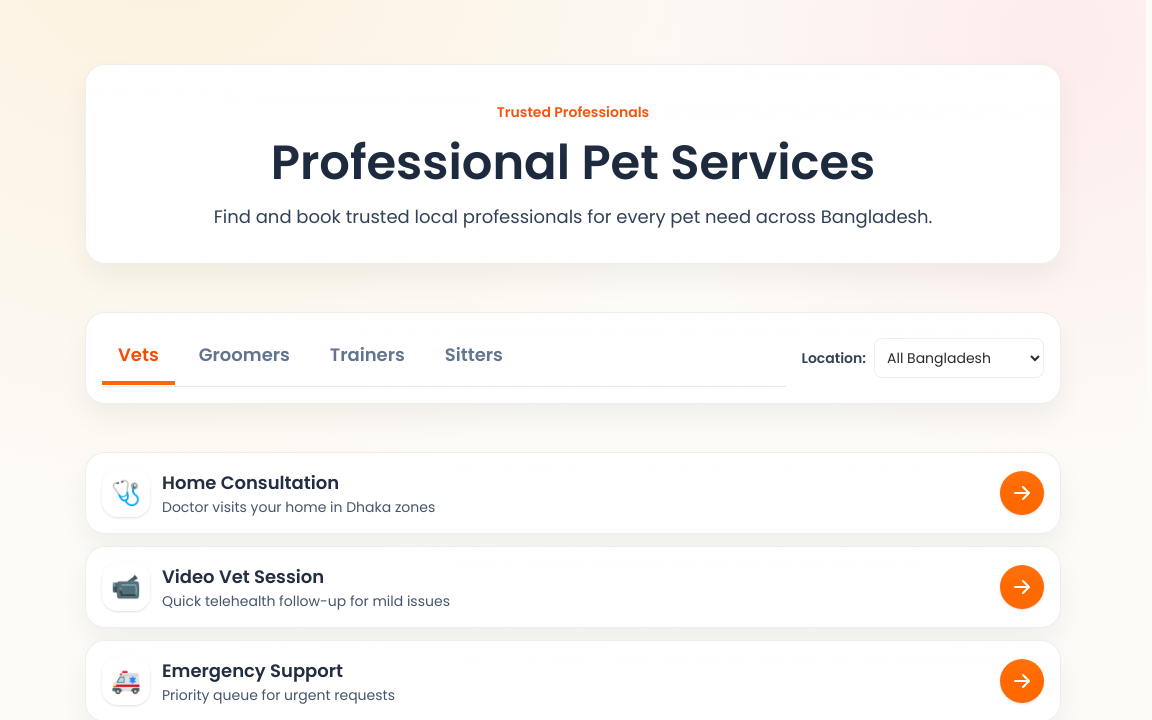
Test: ServicesPage › switches service cards when switching tabs
Note: Click Groomers tab
Click the button "Groomers" at (244, 357), box [183,329,306,385]
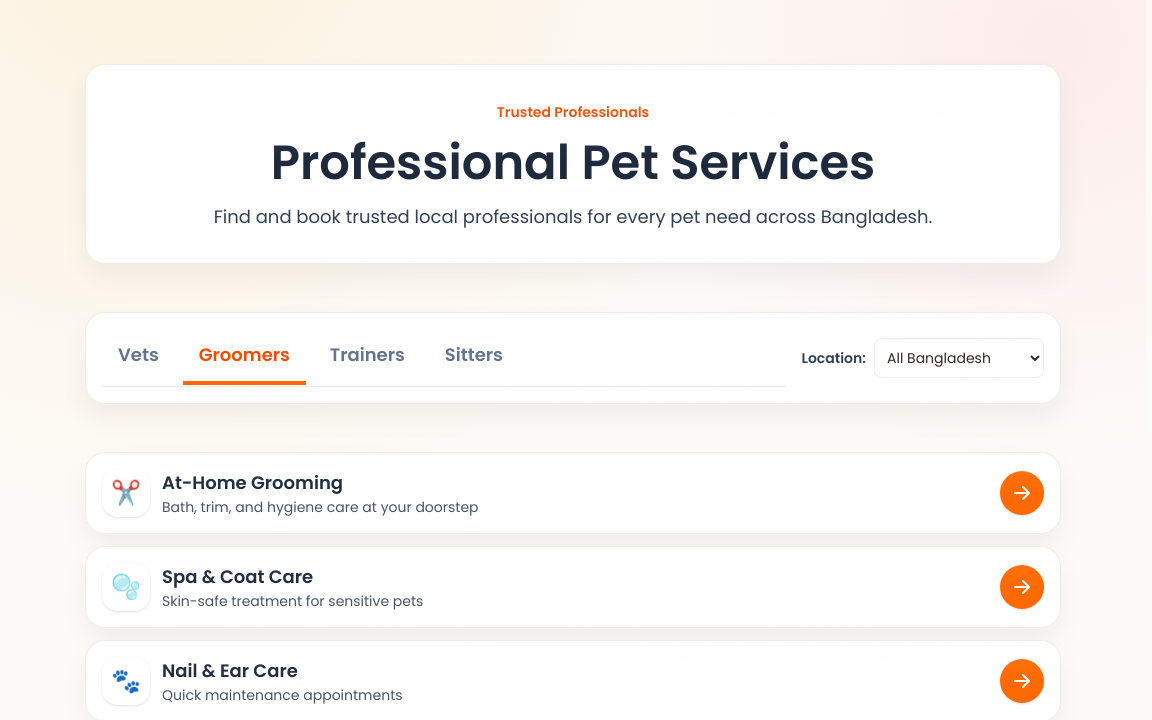
Check: the heading "At-Home Grooming" is shown, box [162,470,343,495]
Check: the heading "Spa & Coat Care" is shown, box [162,564,313,589]
Check: the heading "Nail & Ear Care" is shown, box [162,658,298,683]
Note: Click Trainers tab
Click the button "Trainers" at (367, 357), box [314,329,421,385]
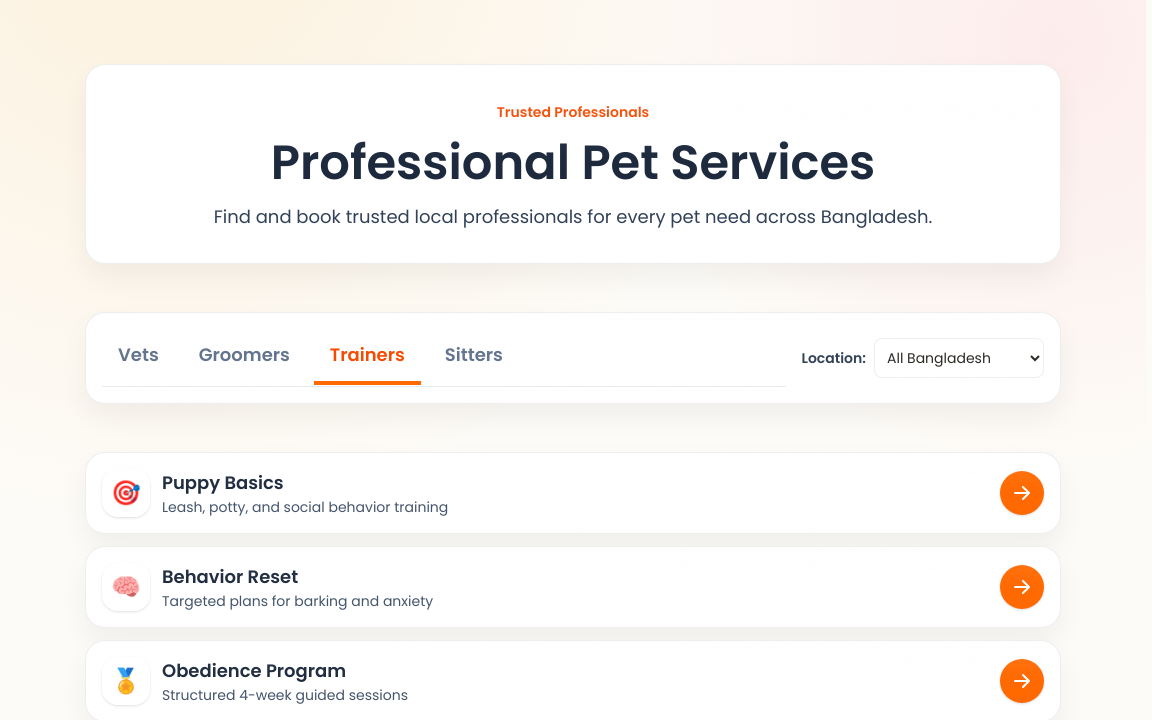
Check: the heading "Puppy Basics" is shown, box [162,470,284,495]
Check: the heading "Behavior Reset" is shown, box [162,564,298,589]
Note: Click Sitters tab
Click the button "Sitters" at (474, 357), box [429,329,519,385]
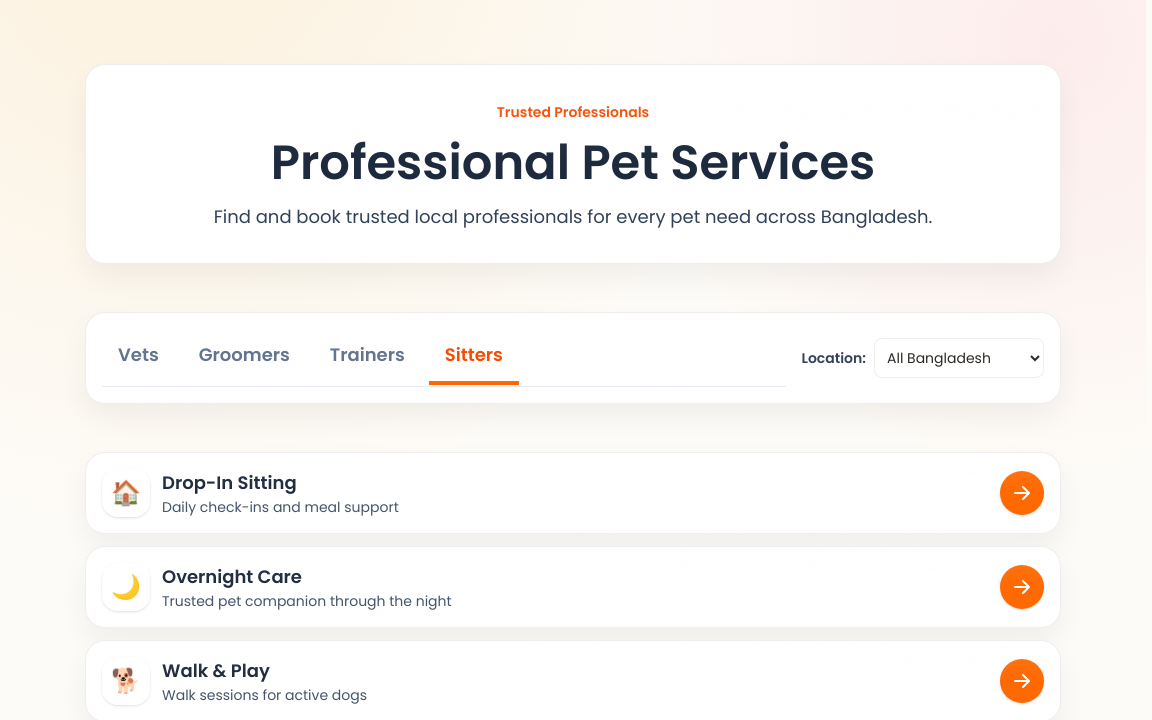
Check: the heading "Drop-In Sitting" is shown, box [162,470,297,495]
Check: the heading "Overnight Care" is shown, box [162,564,302,589]
